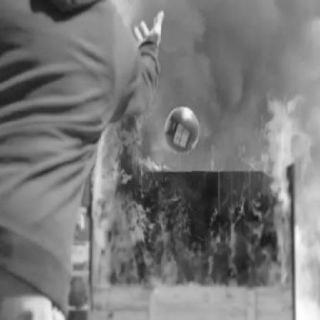Fire: (96, 109, 298, 285)
Smoke: (155, 5, 313, 158)
